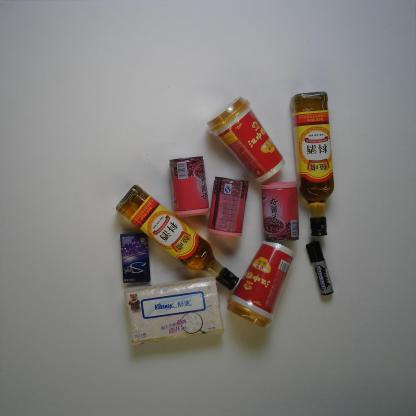Canned Food: (252, 174, 300, 247), (205, 174, 247, 240), (168, 155, 209, 220)
Gum: (114, 228, 157, 288)
Instant Drink: (208, 95, 284, 183), (229, 243, 289, 330)
Seasoner: (116, 185, 238, 290), (291, 86, 343, 240)
Stationery: (300, 236, 334, 299)
Tissue: (99, 270, 227, 355)
